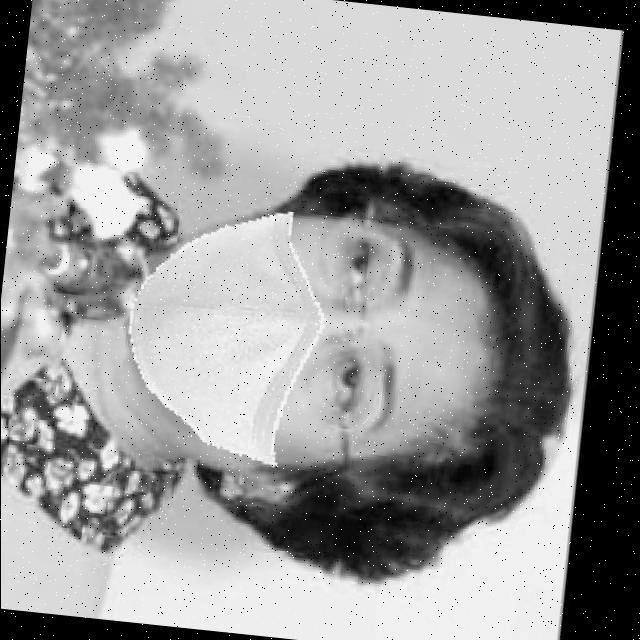no_gloves: (328, 184, 568, 506)
